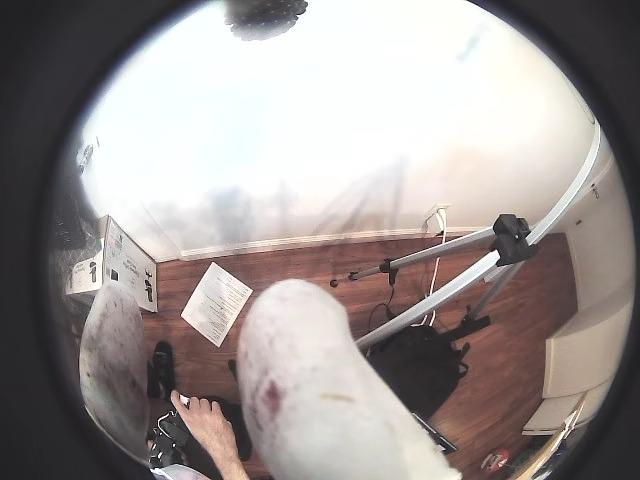berry: (223, 0, 306, 40)
gripper: (237, 279, 461, 479), (79, 281, 148, 465)
lense: (0, 0, 204, 479), (469, 0, 639, 479)
